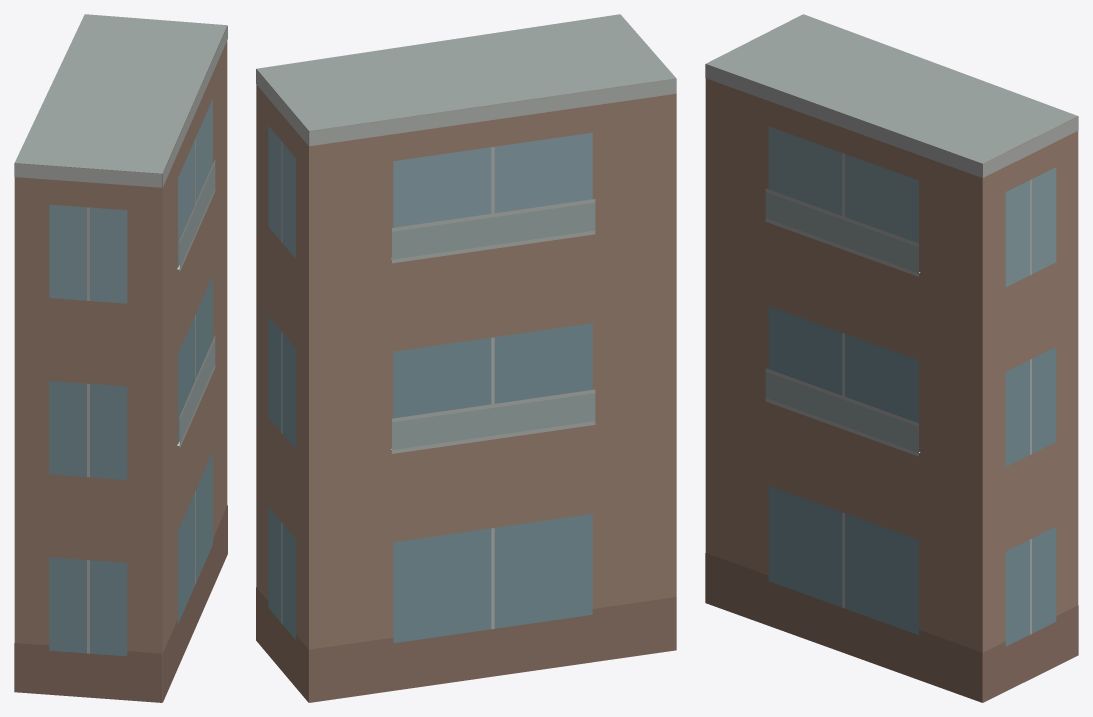
The model's file is survey-upis-32485315.glb.
The picture shows the model from 3 angles, left to right: view 1: azimuth 30°, elevation 25°; view 2: azimuth 150°, elevation 25°; view 3: azimuth 270°, elevation 25°; orthographic projection. The views are drawn at different scales.
Visible parts, largest first — view 1: survey-upis-32485315.tmp; view 2: survey-upis-32485315.tmp; view 3: survey-upis-32485315.tmp.
Boxes of the visible parts, bbox=[...] form: survey-upis-32485315.tmp: bbox=[14, 14, 227, 702]; survey-upis-32485315.tmp: bbox=[256, 14, 676, 702]; survey-upis-32485315.tmp: bbox=[705, 14, 1078, 702].
Size of the model in its own units: 5.46 by 9.15 by 5.75.
